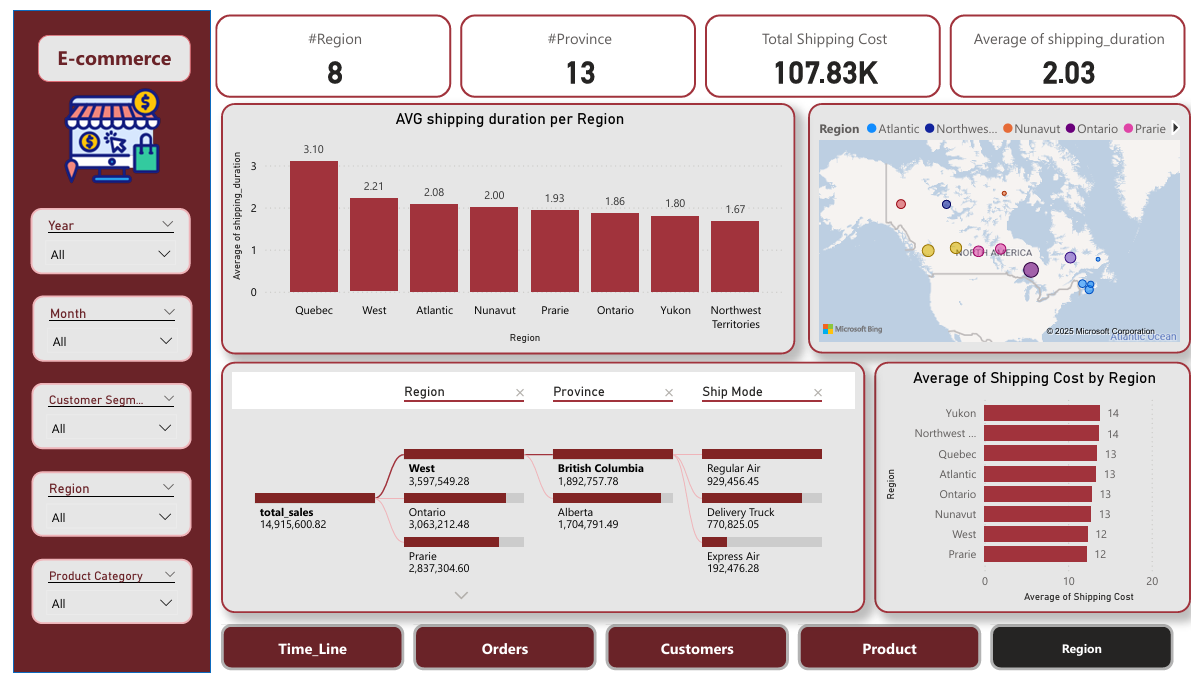

What the dashboard file says about the page in this screenshot:
{"tool":"powerbi","page":{"name":"Region","canvas":[1280,720],"ordinal":4},"visuals":[{"type":"cardVisual","fields":{"Data":["Count(New folder.Region)","Count(New folder.Province)","Sum(New folder.Shipping Cost)","Avg(New folder.shipping_duration)"]},"box":[215.4,0,1064.8,100.2],"z":0},{"type":"shape","box":[0,0,215.4,720.4],"z":2000},{"type":"textbox","box":[27.4,27.4,166,50.8],"z":3000},{"type":"slicer","fields":{"Values":["New folder.Year"]},"box":[19.2,215.4,174.3,71.4],"z":4000},{"type":"slicer","fields":{"Values":["New folder.Order Date.Variation.Date Hierarchy.Month"]},"box":[20.6,310.5,174.3,71.4],"z":5000},{"type":"slicer","fields":{"Values":["New folder.Customer Segment"]},"box":[19.6,405.5,174.3,71.4],"z":6000},{"type":"slicer","fields":{"Values":["New folder.Region"]},"box":[19.9,500.5,174.3,71.4],"z":7000},{"type":"slicer","fields":{"Values":["New folder.Product Category"]},"box":[20.2,595.5,174.3,71.4],"z":8000},{"type":"image","box":[0,78.2,215.4,116.6],"z":9000},{"type":"pageNavigator","box":[225.8,667.5,1038,49.1],"z":10000},{"type":"map","title":"Customer vs Year","fields":{"Category":["New folder.Province"],"Size":["Dax.total_sales"],"Series":["New folder.Region"]},"box":[863.8,100.6,416,272.4],"z":11000},{"type":"columnChart","title":"AVG shipping duration per Region","fields":{"Y":["Avg(New folder.shipping_duration)"],"Category":["New folder.Region"]},"box":[225.6,100.6,624,273.3],"z":12000},{"type":"barChart","fields":{"Y":["Avg(New folder.Shipping Cost)"],"Category":["New folder.Region"]},"box":[936.2,381.6,343.6,273.6],"z":13000},{"type":"decompositionTreeVisual","fields":{"Analyze":["Dax.total_sales"],"ExplainBy":["New folder.Region","New folder.Province","New folder.Ship Mode"]},"box":[225.8,381.6,700.6,273.6],"z":15000}]}

Visuals, with their boxes in screenshot pixels (x1, y1, x2, y2), scaled from the page's 1280x720 canvas onto the 1202x677 screenshot:
cardVisual - Count(New folder.Region) x Count(New folder.Province): bbox=[202, 0, 1201, 94]
shape: bbox=[0, 0, 202, 676]
textbox: bbox=[26, 26, 182, 74]
slicer - New folder.Year: bbox=[18, 203, 182, 270]
slicer - New folder.Order Date.Variation.Date Hierarchy.Month: bbox=[19, 292, 183, 359]
slicer - New folder.Customer Segment: bbox=[18, 381, 182, 448]
slicer - New folder.Region: bbox=[19, 471, 182, 538]
slicer - New folder.Product Category: bbox=[19, 560, 183, 627]
image: bbox=[0, 74, 202, 183]
pageNavigator: bbox=[212, 628, 1187, 674]
"Customer vs Year" map: bbox=[811, 95, 1201, 351]
"AVG shipping duration per Region" columnChart: bbox=[212, 95, 798, 352]
barChart - Avg(New folder.Shipping Cost) x New folder.Region: bbox=[879, 359, 1201, 616]
decompositionTreeVisual - Dax.total_sales x New folder.Region: bbox=[212, 359, 870, 616]
